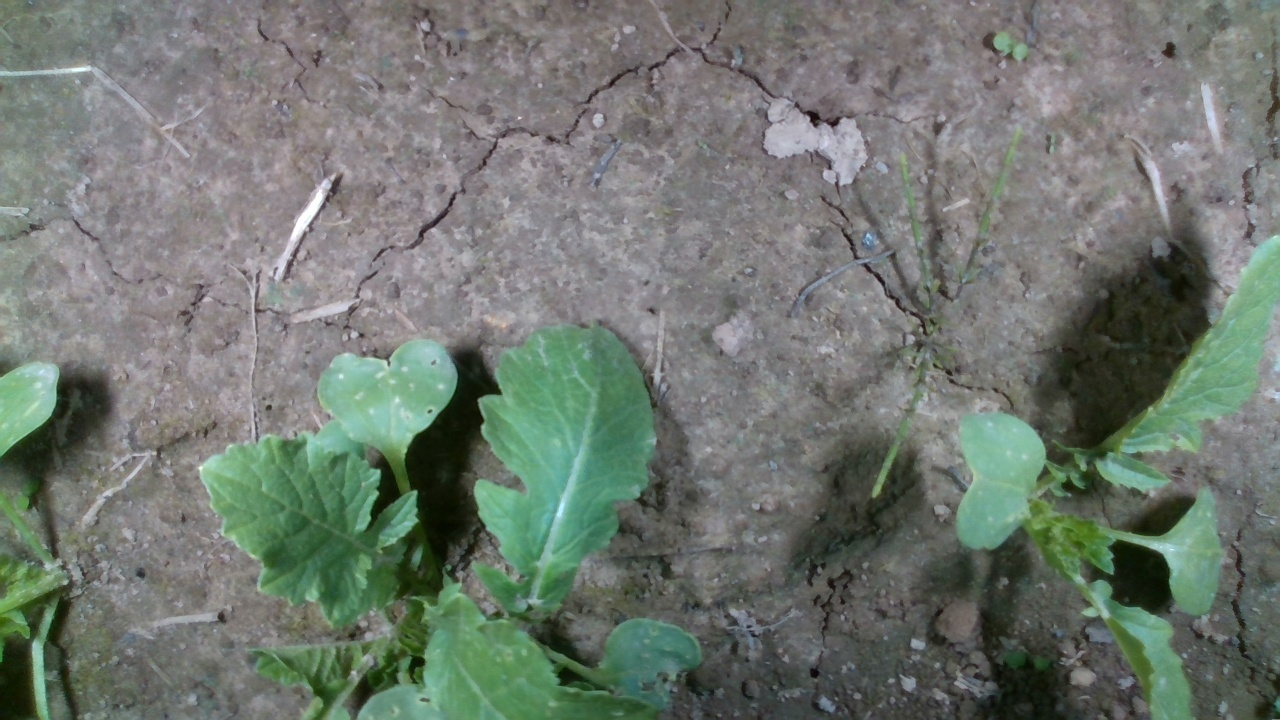weed: (990, 30, 1032, 62)
